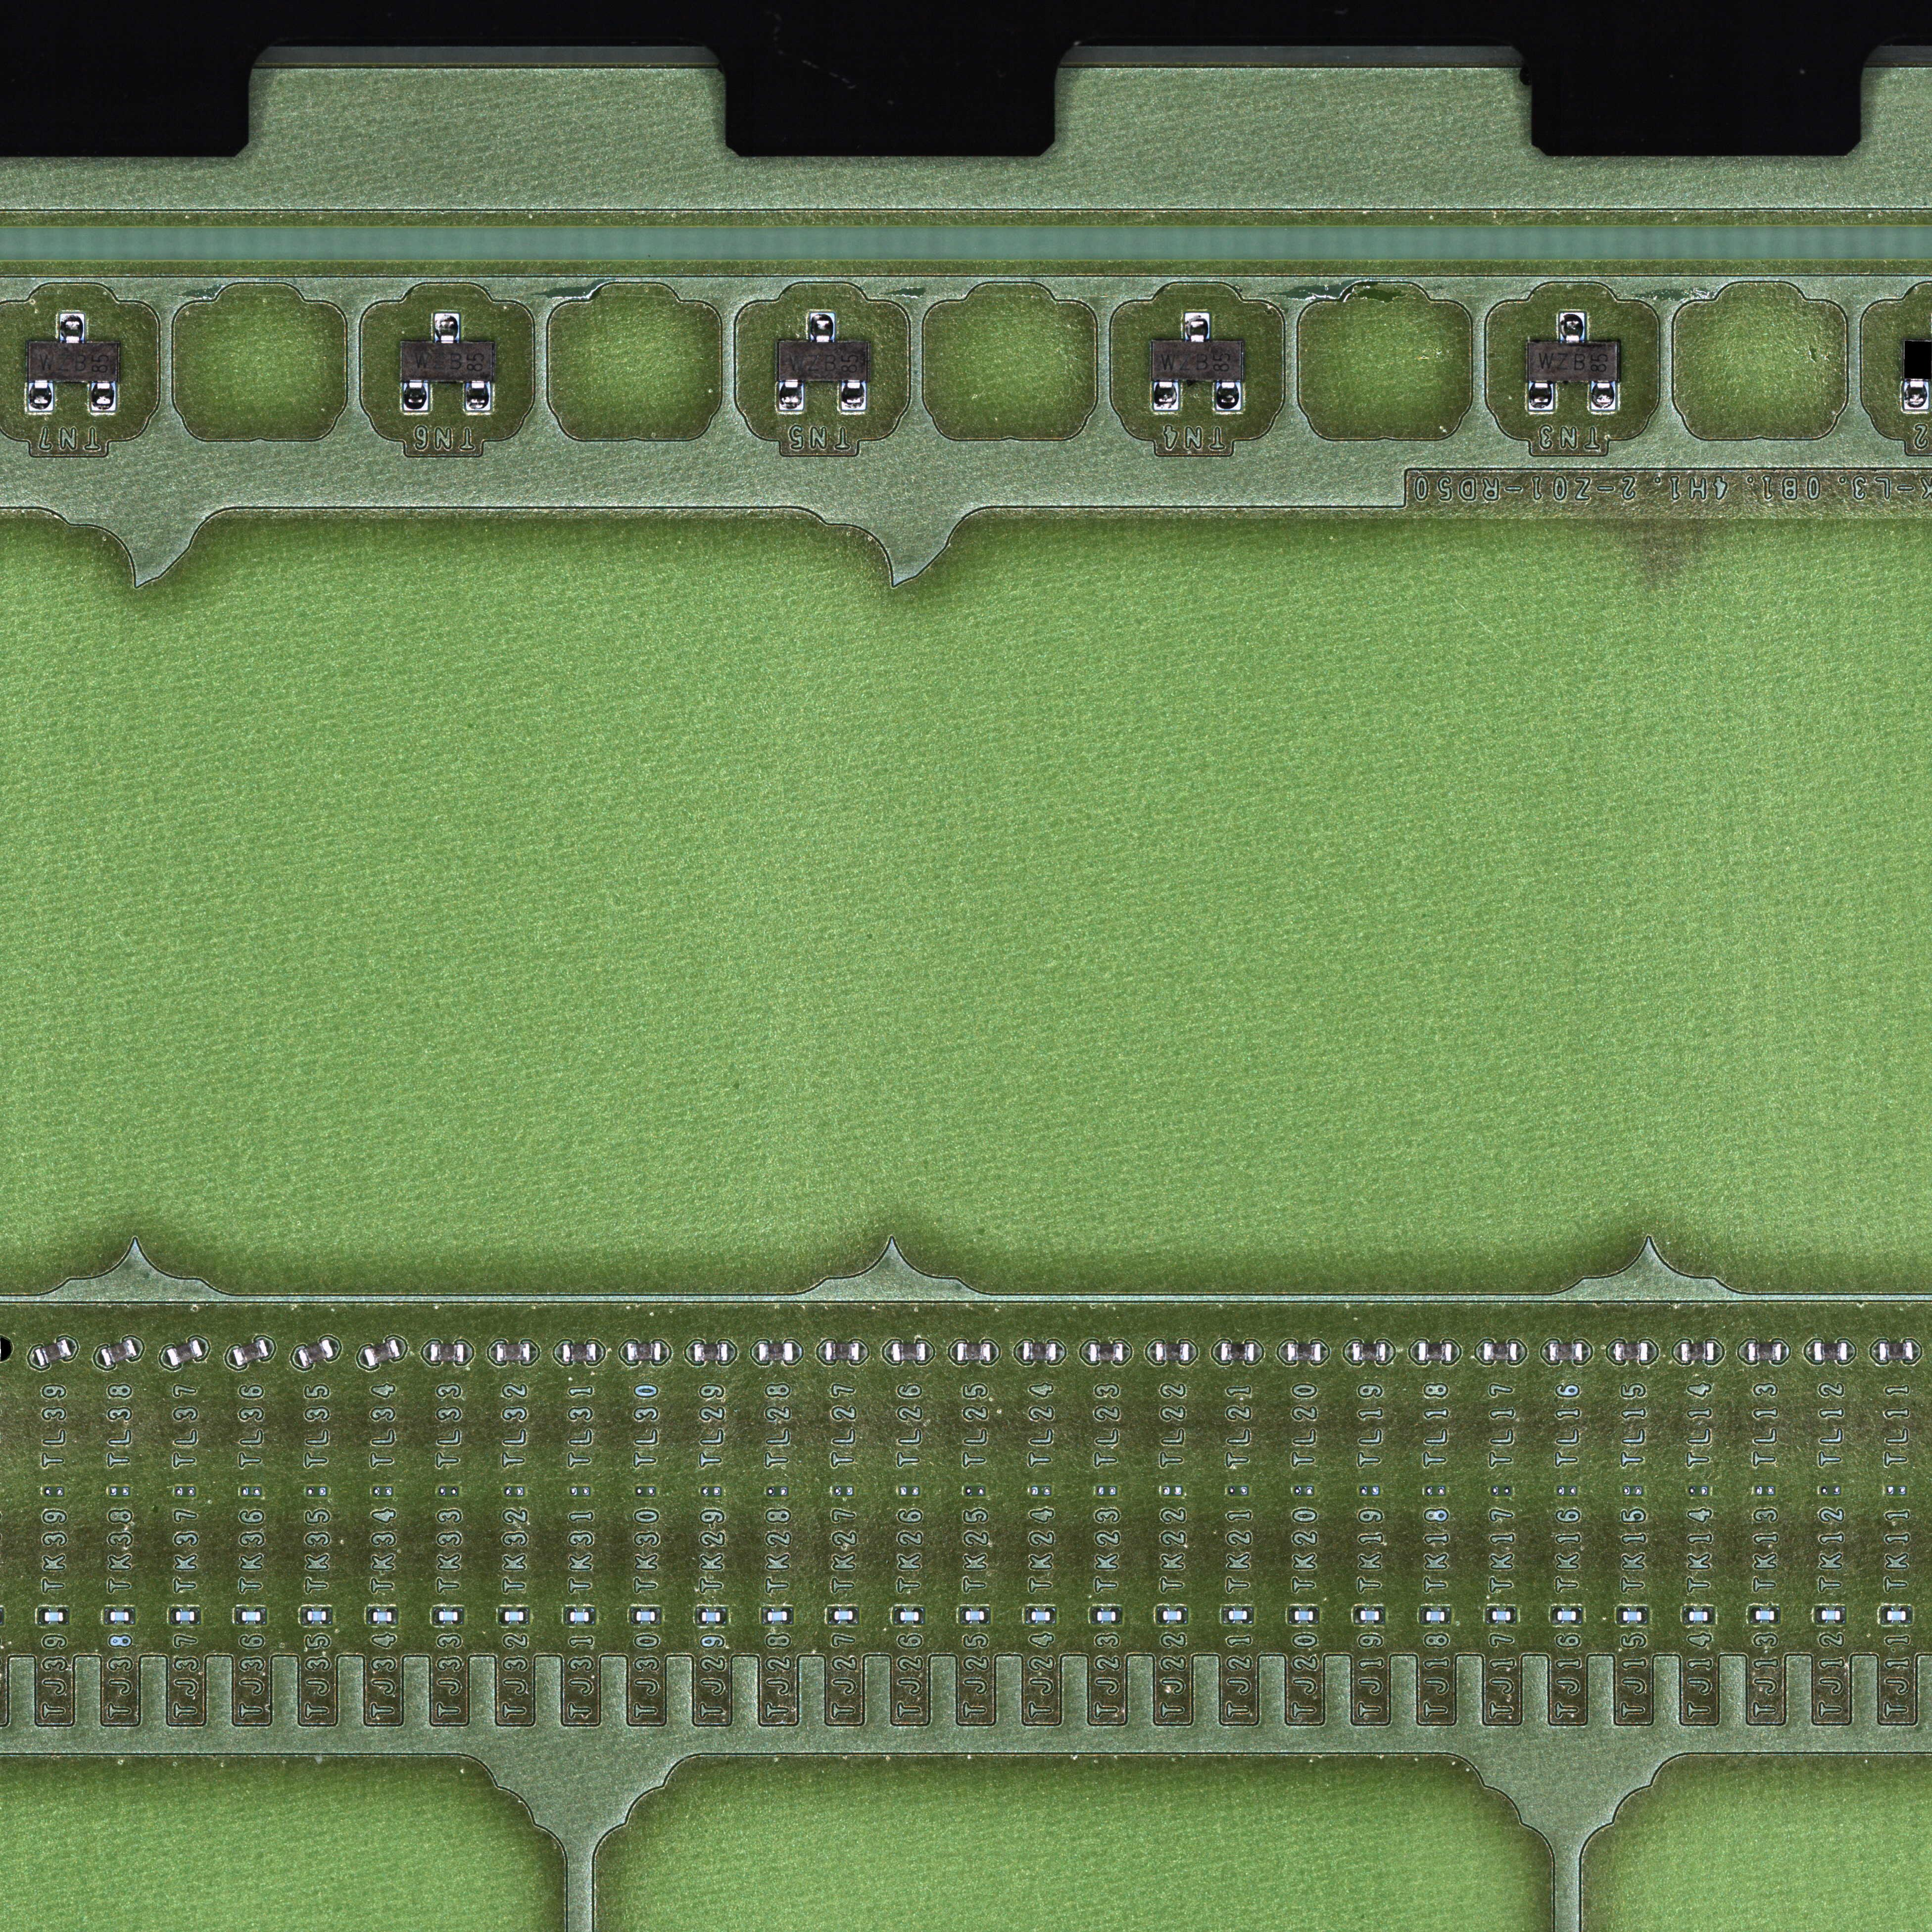Package: (27, 341, 117, 380), (778, 341, 869, 380), (1152, 341, 1242, 380), (400, 343, 494, 380), (1529, 343, 1619, 380), (297, 1339, 334, 1366), (166, 1339, 203, 1366), (101, 1339, 138, 1366), (34, 1339, 71, 1366), (364, 1339, 400, 1366), (495, 1343, 531, 1362), (1879, 1341, 1913, 1361), (563, 1343, 596, 1362), (1090, 1343, 1123, 1362), (430, 1343, 464, 1362), (1748, 1343, 1782, 1361), (957, 1343, 991, 1361), (1813, 1343, 1847, 1361), (1615, 1343, 1649, 1361), (892, 1343, 925, 1361), (826, 1343, 860, 1361), (1419, 1343, 1453, 1361), (1288, 1343, 1322, 1361), (628, 1343, 662, 1361), (1023, 1343, 1056, 1361), (1484, 1343, 1518, 1361), (1155, 1343, 1189, 1361), (759, 1343, 793, 1361), (694, 1343, 727, 1361), (1221, 1343, 1254, 1361), (1681, 1343, 1714, 1361), (1550, 1343, 1582, 1361), (1353, 1343, 1385, 1361), (1162, 1610, 1182, 1621), (570, 1612, 589, 1622), (966, 1610, 984, 1621), (308, 1610, 326, 1621), (1230, 1610, 1247, 1621), (1493, 1610, 1511, 1621), (1757, 1610, 1775, 1621), (1822, 1610, 1840, 1621), (1295, 1610, 1313, 1621), (768, 1612, 787, 1621), (504, 1612, 524, 1621), (439, 1612, 458, 1621), (1622, 1612, 1642, 1621), (1097, 1612, 1116, 1621), (1557, 1612, 1576, 1621), (1690, 1612, 1707, 1621), (44, 1612, 62, 1621), (702, 1612, 720, 1621), (1426, 1612, 1444, 1621), (637, 1612, 655, 1621), (242, 1612, 260, 1621), (177, 1612, 195, 1621), (1361, 1612, 1378, 1621), (901, 1612, 918, 1621), (373, 1612, 391, 1621), (1888, 1612, 1905, 1621), (111, 1612, 129, 1621), (1031, 1612, 1049, 1621), (835, 1612, 853, 1621)
Solder: (1902, 380, 1930, 410), (1559, 311, 1585, 343), (58, 313, 85, 343), (840, 380, 867, 410), (27, 382, 53, 412), (90, 382, 117, 412), (1184, 313, 1210, 341), (1215, 382, 1242, 410), (402, 382, 428, 410), (809, 313, 835, 341), (435, 313, 460, 343), (778, 382, 803, 410), (1154, 382, 1178, 410), (465, 382, 490, 410), (1591, 382, 1615, 410), (1529, 382, 1553, 410), (356, 1348, 370, 1371), (264, 1336, 278, 1357), (225, 1348, 239, 1369), (196, 1334, 211, 1355), (157, 1348, 172, 1369), (131, 1334, 145, 1355), (92, 1348, 106, 1369), (27, 1348, 41, 1369), (65, 1336, 80, 1355), (395, 1336, 407, 1357), (329, 1334, 341, 1355), (290, 1348, 303, 1369), (1582, 1341, 1592, 1362), (793, 1341, 801, 1362), (1385, 1341, 1394, 1362), (1649, 1341, 1658, 1362), (554, 1341, 563, 1362), (662, 1341, 671, 1362), (817, 1341, 826, 1362), (1056, 1343, 1065, 1362), (1254, 1343, 1263, 1362), (596, 1343, 605, 1362), (1212, 1343, 1221, 1362), (1410, 1343, 1419, 1362), (1714, 1341, 1723, 1361), (925, 1343, 934, 1362), (1739, 1343, 1748, 1362), (1146, 1341, 1155, 1361), (1870, 1341, 1879, 1361), (1279, 1343, 1288, 1362), (1453, 1343, 1461, 1362), (1913, 1341, 1921, 1361), (1081, 1343, 1090, 1362), (1805, 1341, 1813, 1361), (464, 1343, 472, 1362), (1518, 1343, 1527, 1361), (1847, 1343, 1856, 1361), (1672, 1343, 1681, 1361), (991, 1343, 1000, 1361), (1541, 1343, 1550, 1361), (1189, 1343, 1198, 1361), (619, 1343, 628, 1361), (860, 1341, 867, 1362), (531, 1341, 538, 1362), (488, 1341, 495, 1362), (1608, 1341, 1615, 1362), (1123, 1343, 1131, 1362), (1322, 1343, 1329, 1362), (752, 1343, 759, 1362), (1476, 1341, 1483, 1361), (729, 1343, 736, 1362), (1016, 1341, 1023, 1361), (1782, 1341, 1789, 1361), (1782, 1343, 1789, 1361), (686, 1343, 694, 1361), (885, 1343, 892, 1361), (950, 1343, 957, 1361), (1345, 1343, 1352, 1361), (423, 1343, 430, 1361), (235, 1608, 242, 1624), (1223, 1608, 1230, 1624), (104, 1608, 111, 1624), (62, 1608, 69, 1624), (828, 1608, 835, 1624), (170, 1608, 177, 1624), (1486, 1608, 1493, 1622), (1288, 1608, 1295, 1622), (303, 1608, 308, 1624), (1684, 1608, 1690, 1624), (39, 1608, 44, 1624), (499, 1608, 504, 1624), (326, 1608, 331, 1624), (589, 1608, 594, 1624), (697, 1608, 702, 1624), (433, 1608, 439, 1624), (1617, 1608, 1622, 1624), (1157, 1608, 1162, 1624), (961, 1608, 966, 1624), (1026, 1608, 1031, 1624), (763, 1608, 768, 1624), (787, 1608, 793, 1624), (895, 1608, 901, 1624), (1707, 1608, 1713, 1624), (564, 1608, 570, 1624), (368, 1608, 373, 1624), (524, 1608, 529, 1624), (720, 1608, 725, 1624), (1840, 1606, 1845, 1622), (195, 1608, 200, 1624), (260, 1608, 265, 1624), (391, 1608, 396, 1624), (632, 1608, 637, 1624), (655, 1608, 660, 1624), (918, 1608, 924, 1624), (1092, 1608, 1097, 1624), (1642, 1608, 1647, 1624), (1905, 1606, 1911, 1622), (1817, 1608, 1822, 1624), (1421, 1608, 1426, 1622), (1750, 1608, 1755, 1622), (1511, 1608, 1516, 1622), (129, 1608, 134, 1622), (1775, 1608, 1780, 1622), (1049, 1608, 1054, 1622), (1313, 1608, 1318, 1622), (853, 1608, 858, 1622), (1247, 1608, 1253, 1622), (1444, 1608, 1449, 1622), (984, 1608, 989, 1622), (1182, 1608, 1187, 1622), (1355, 1608, 1361, 1622), (1378, 1608, 1384, 1622), (1576, 1608, 1582, 1622), (1116, 1608, 1120, 1624), (458, 1608, 462, 1624), (1882, 1608, 1886, 1622), (1553, 1610, 1557, 1624)
